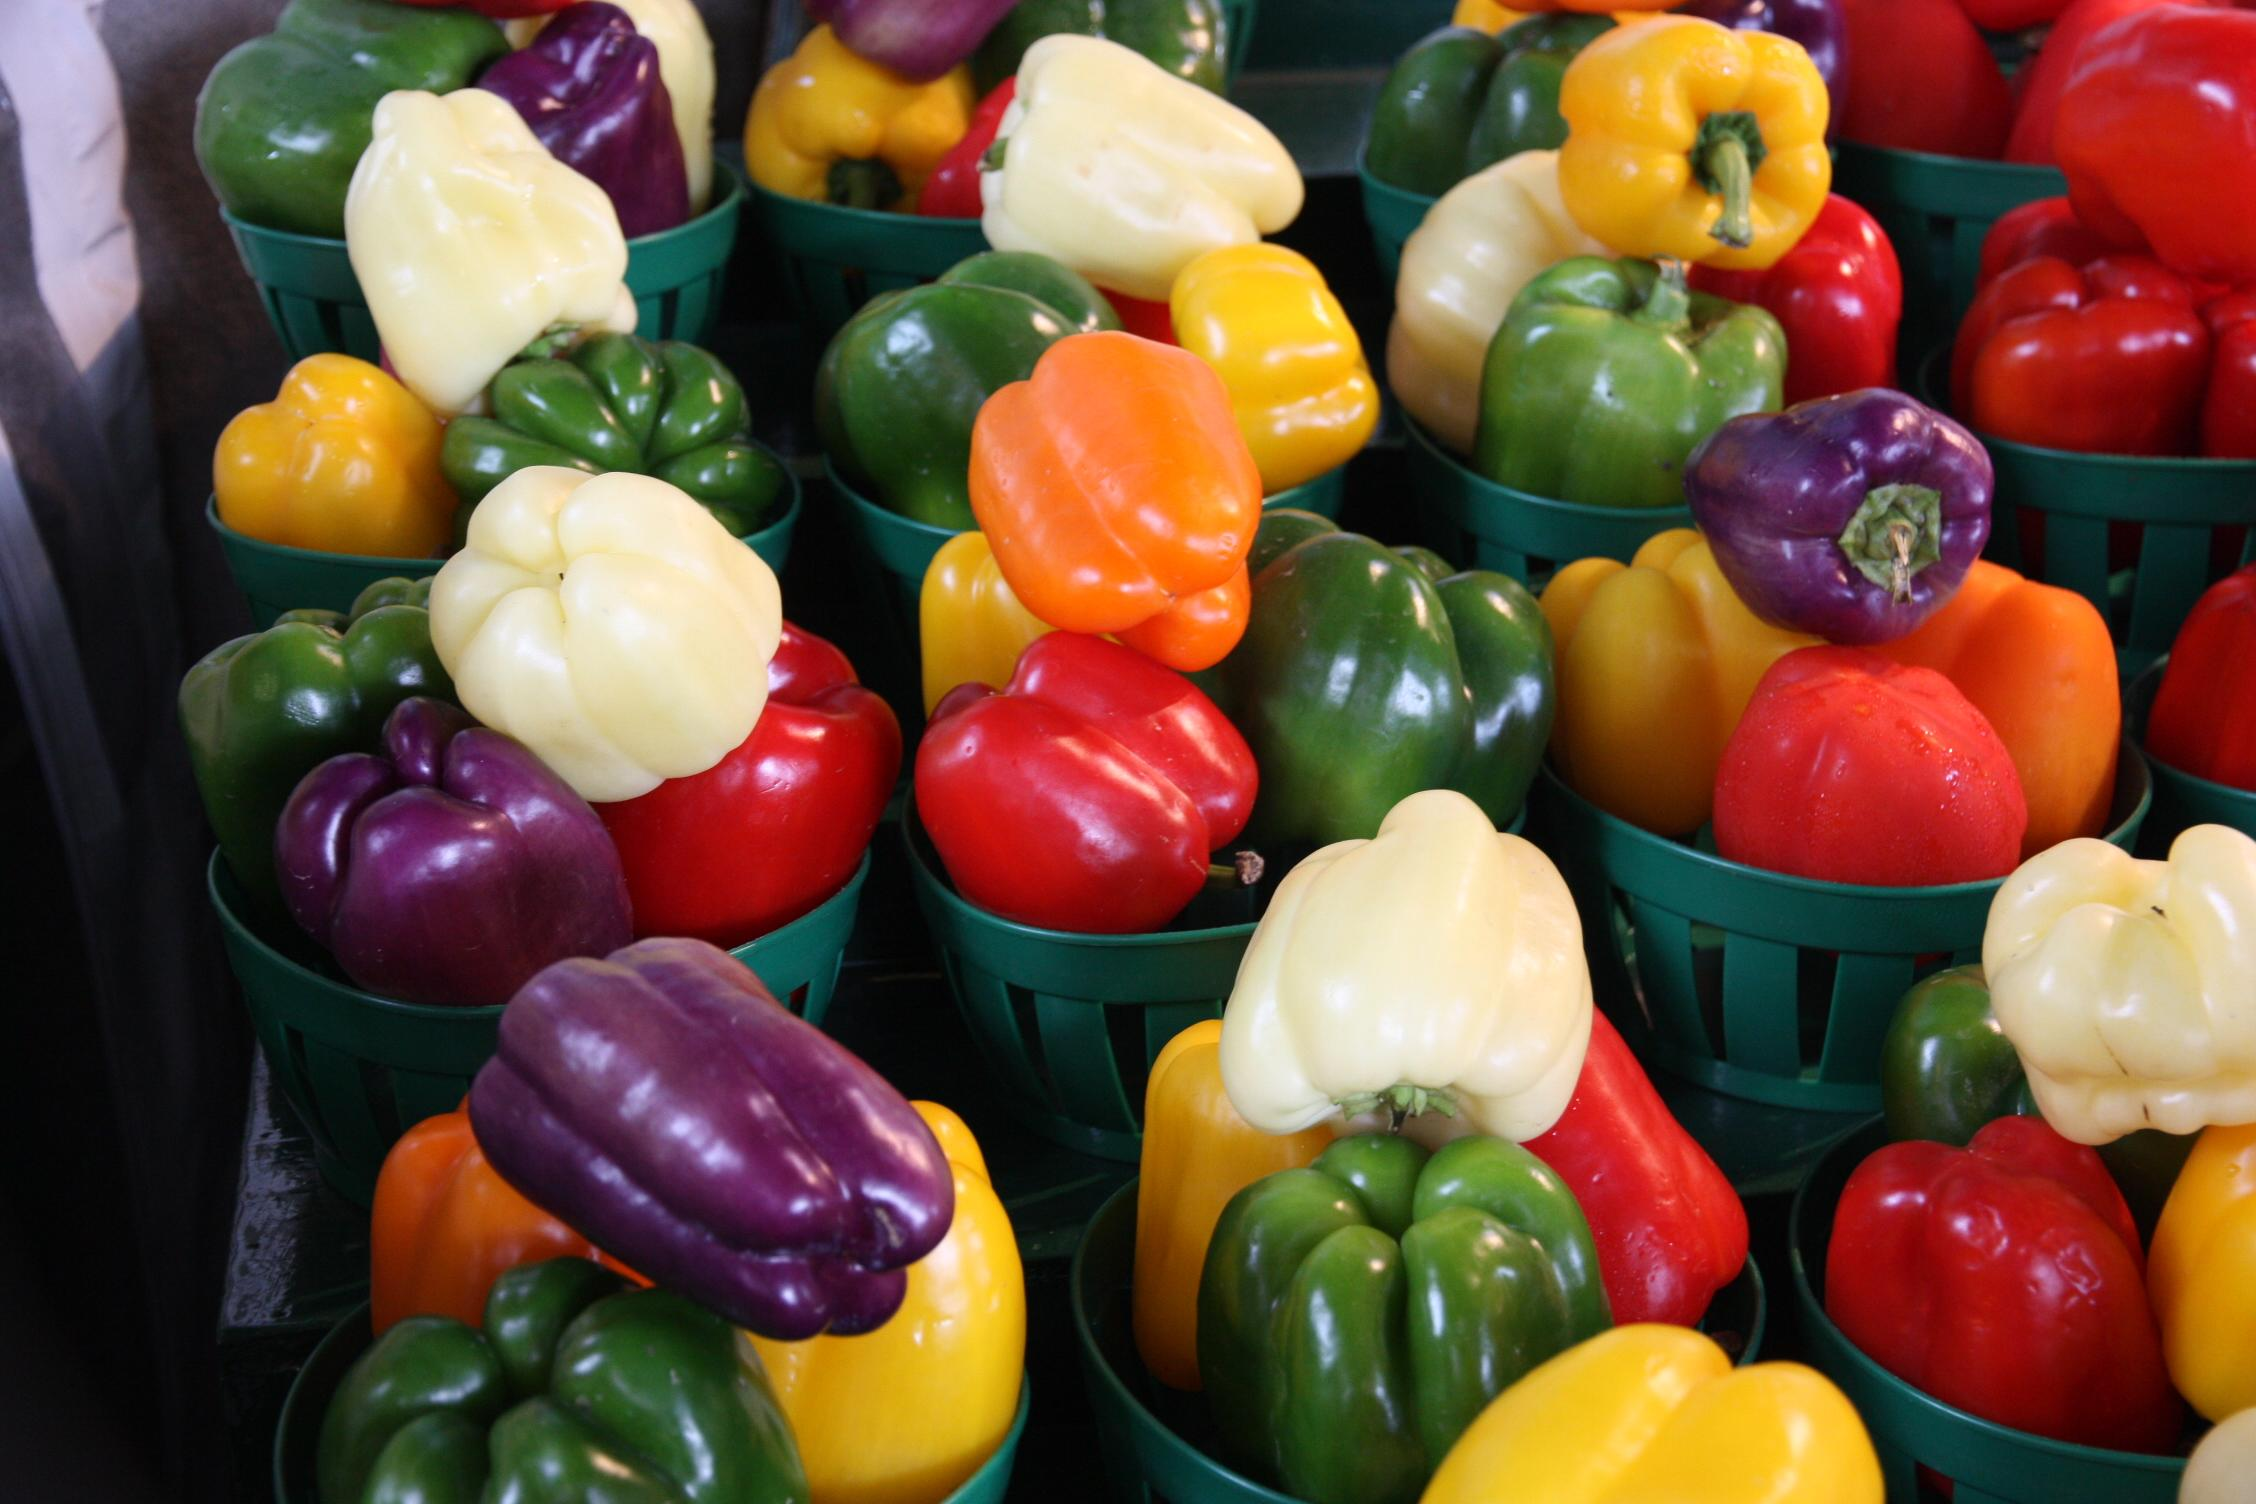capsicum: (175, 2, 2241, 1496), (463, 932, 957, 1339), (1193, 1128, 1611, 1497), (314, 1254, 811, 1501), (425, 462, 784, 802), (1682, 384, 1996, 645), (1472, 252, 1788, 509), (191, 0, 509, 237), (1554, 12, 1833, 270), (211, 349, 453, 559)
